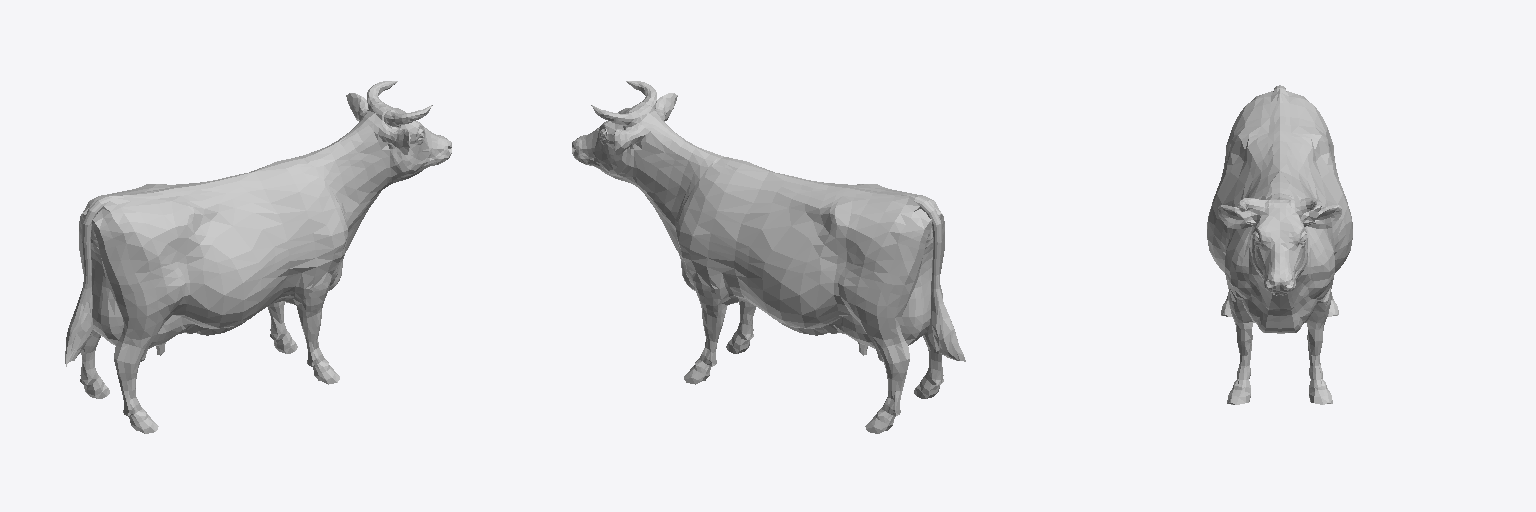
File: cow.obj
3 views of the same model, side by side, from view 1: azimuth 30°, elevation 25°; view 2: azimuth 150°, elevation 25°; view 3: azimuth 270°, elevation 25° (orthographic).
Parts seen in each view (by area): view 1: cow; view 2: cow; view 3: cow.
Part boxes in pixels (bbox=[...]): cow: bbox=[65, 81, 451, 433]; cow: bbox=[572, 81, 965, 433]; cow: bbox=[1207, 85, 1352, 404].
Bounding box in the file's own units: 10.44 × 6.4 × 3.4.